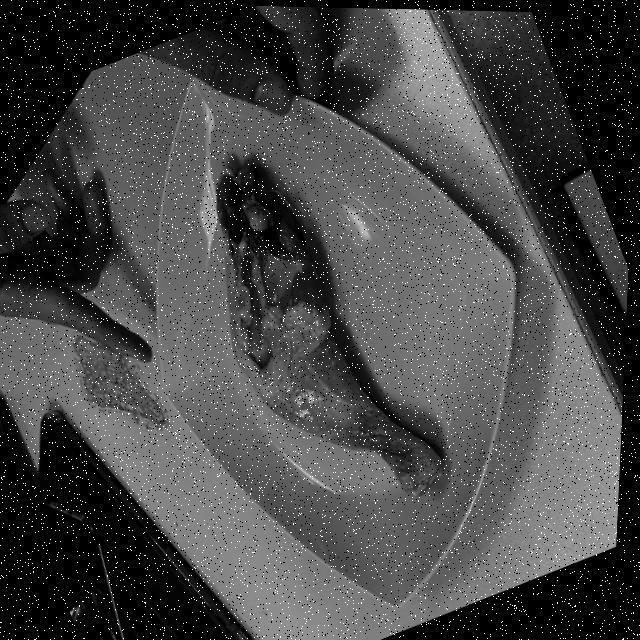quater: (199, 153, 450, 501)
